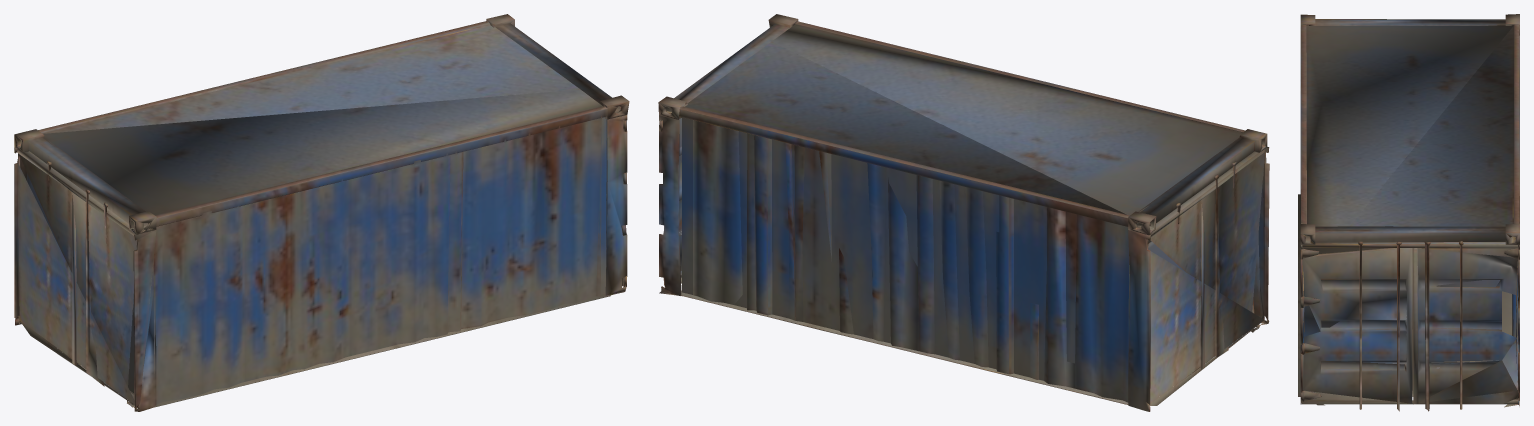
Rendered from cont1.glb.
3 renders of one model, left to right at view 1: azimuth 30°, elevation 25°; view 2: azimuth 150°, elevation 25°; view 3: azimuth 270°, elevation 25°, orthographic. The views are drawn at different scales.
Parts seen in each view (by area): view 1: cont1; view 2: cont1; view 3: cont1.
Part boxes in pixels (x1,y1,x2,y2): cont1: (14, 14, 629, 411); cont1: (658, 14, 1269, 411); cont1: (1298, 14, 1519, 411).
Size of the model in its own units: 6.06 by 2.3 by 2.58.
Materials: 1 (1 with a texture image).
